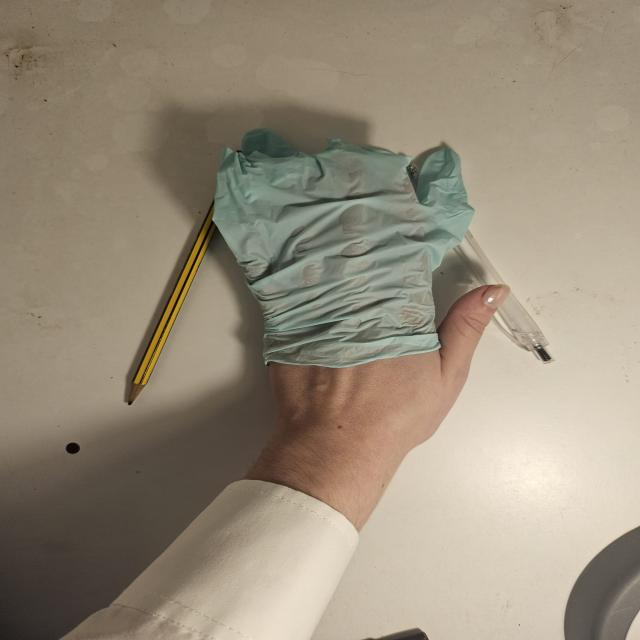glove_partial: (208, 126, 513, 435)
